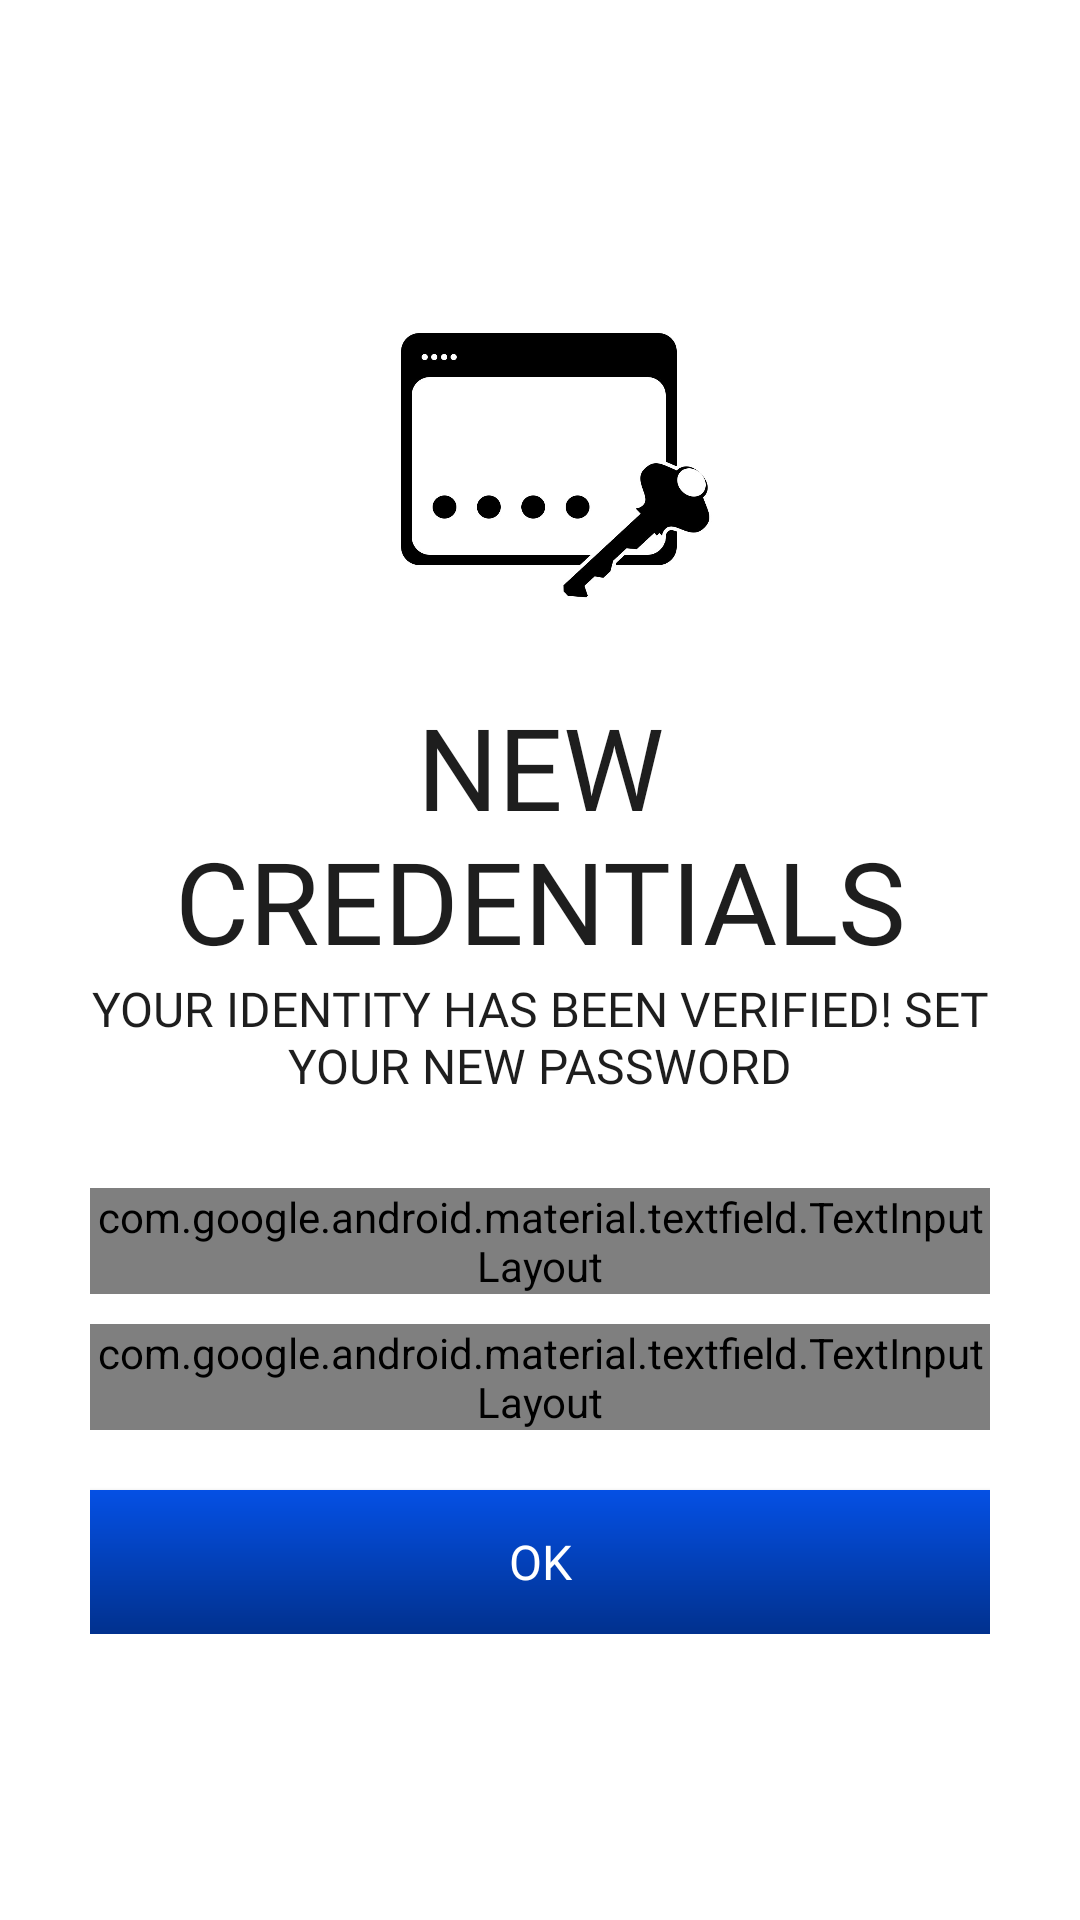

Where to tap for icons on this 1080px×1920px app screen, as (x=x, y=y):
edit password: (x=555, y=465)
